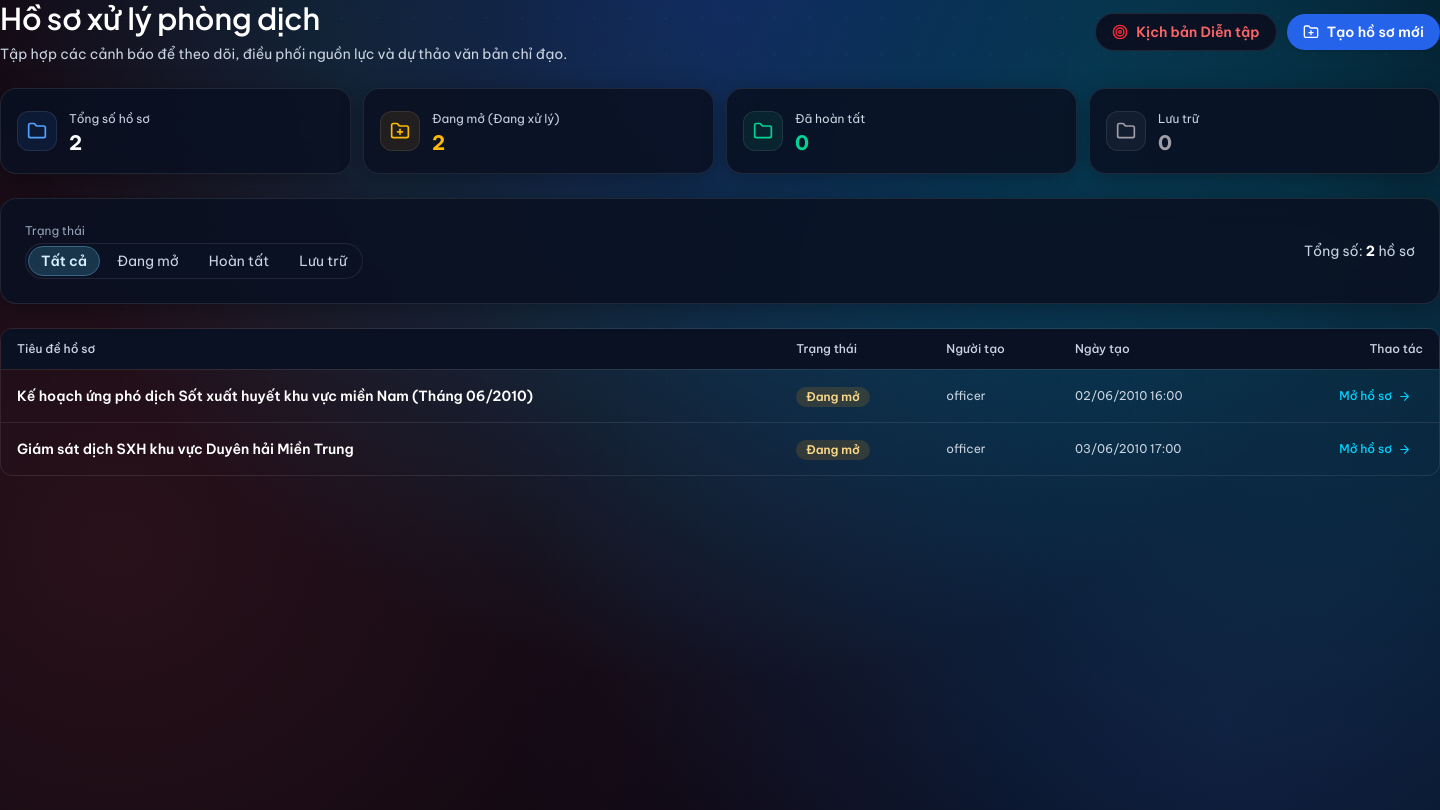
Test: CaseListPage (S7 Danh sách hồ sơ) › cho phép tạo hồ sơ mới qua modal
Check: the link "Kế hoạch ứng phó dịch Sốt xuất huyết khu vực miền Nam (Tháng 06/2010)" is shown, box [17,387,533,405]
Click the button "Tạo hồ sơ mới": [1363, 32] box [1287,14,1439,50]
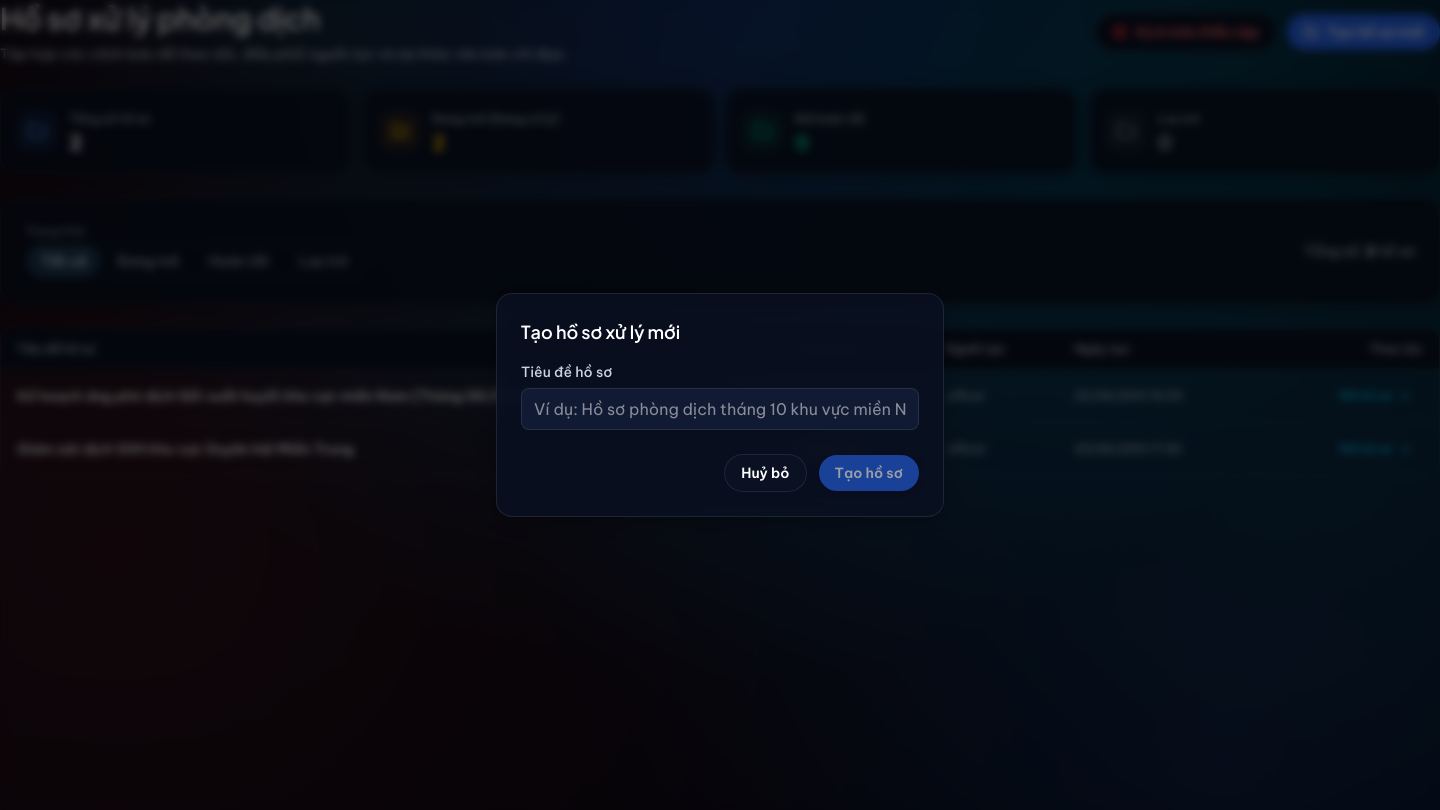
Check: the heading "Tạo hồ sơ xử lý mới" is shown, box [521,320,680,343]
In the field labelled "Tiêu đề hồ sơ": [720, 409] box [521,388,919,430], type "Hồ sơ phòng dịch mới test"
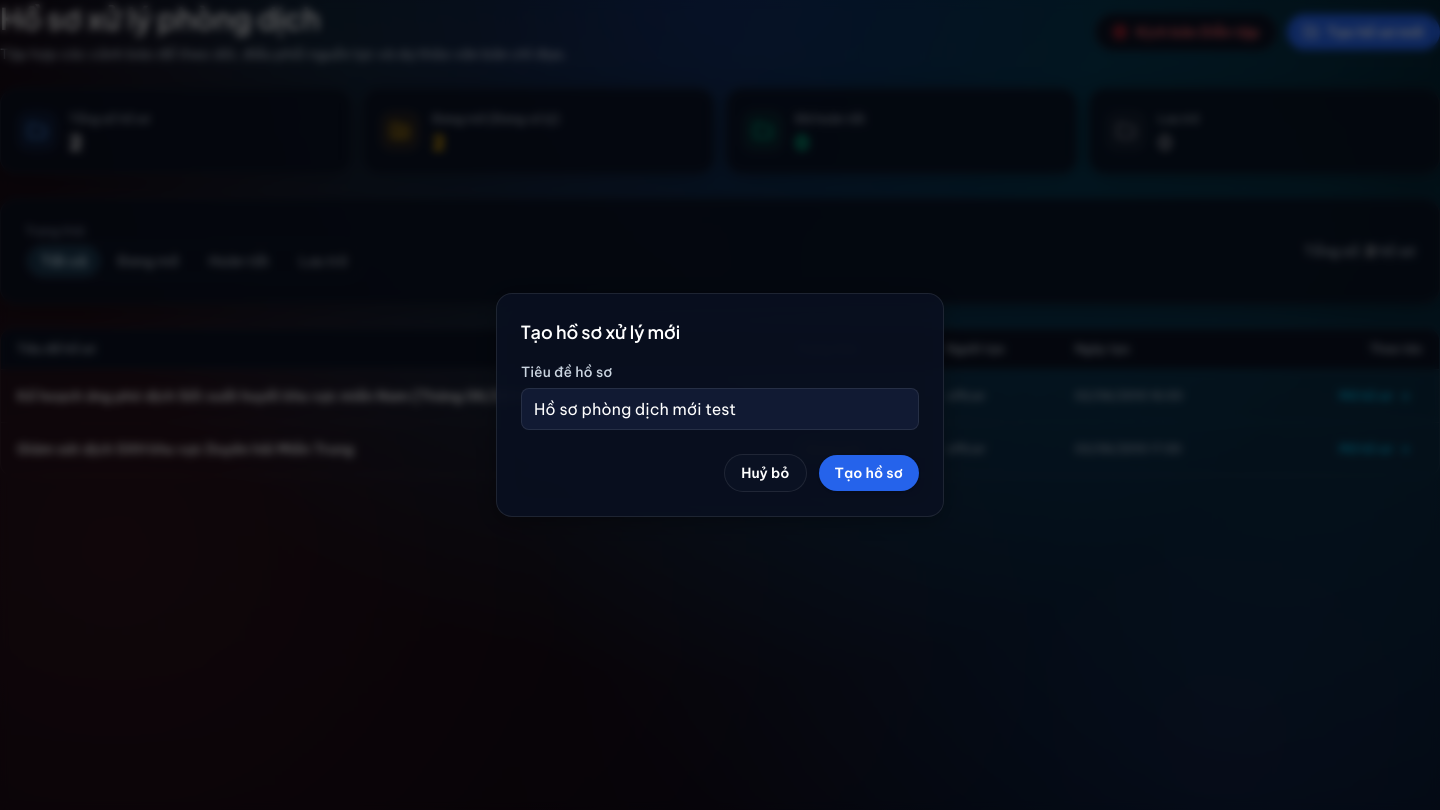
Click the button "Tạo hồ sơ": [869, 473] box [818,455,919,491]
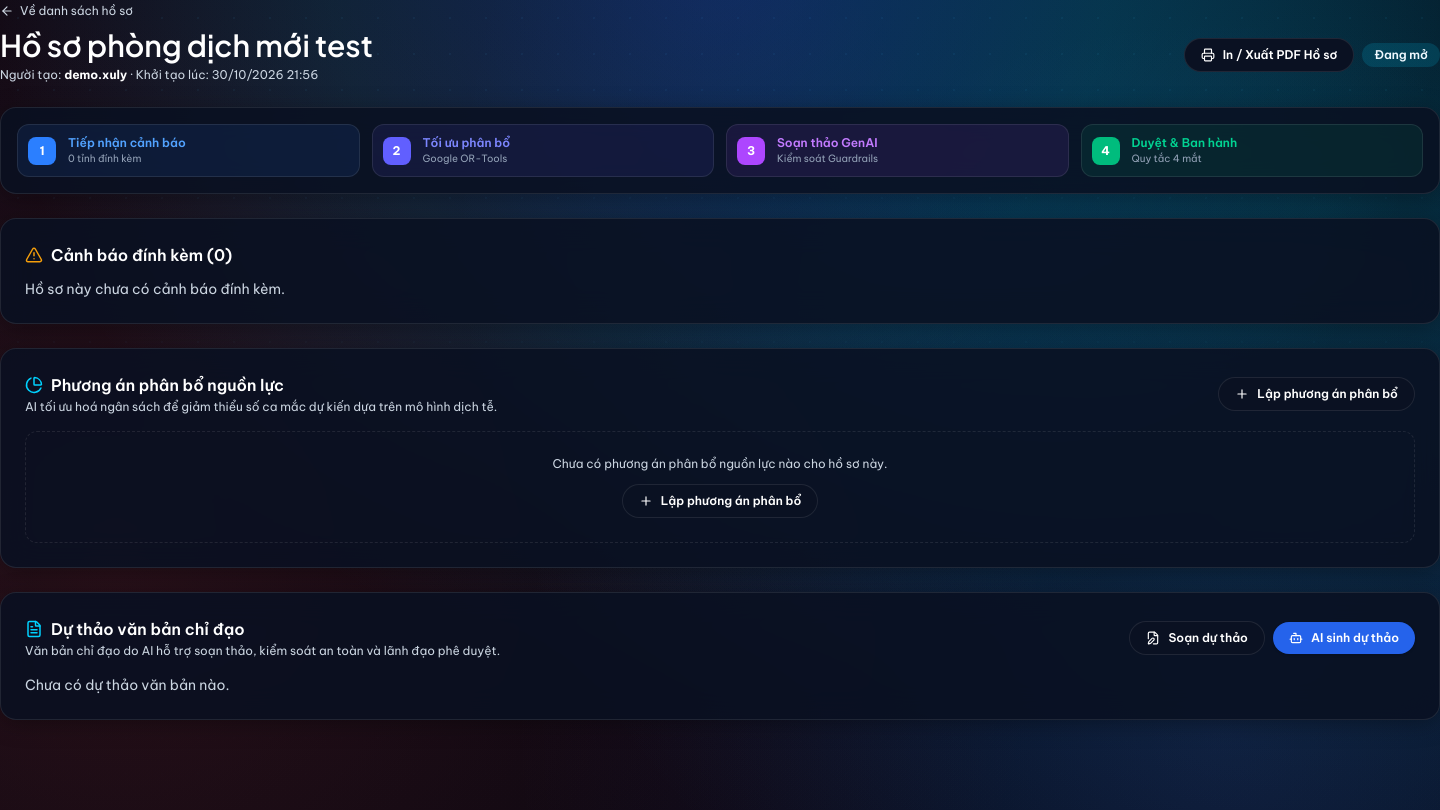
Check: the dialog is gone
